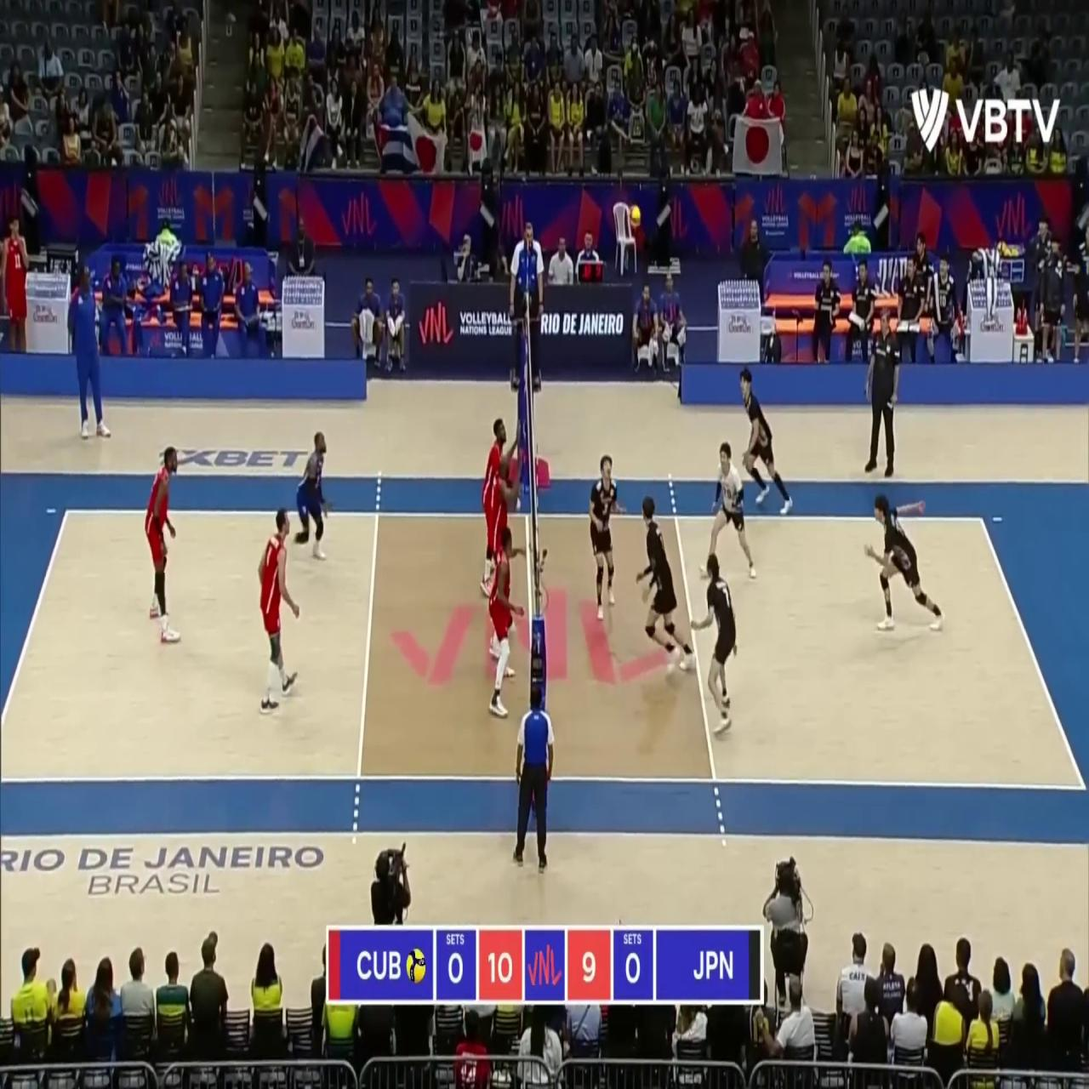ball: (630, 206, 641, 226)
